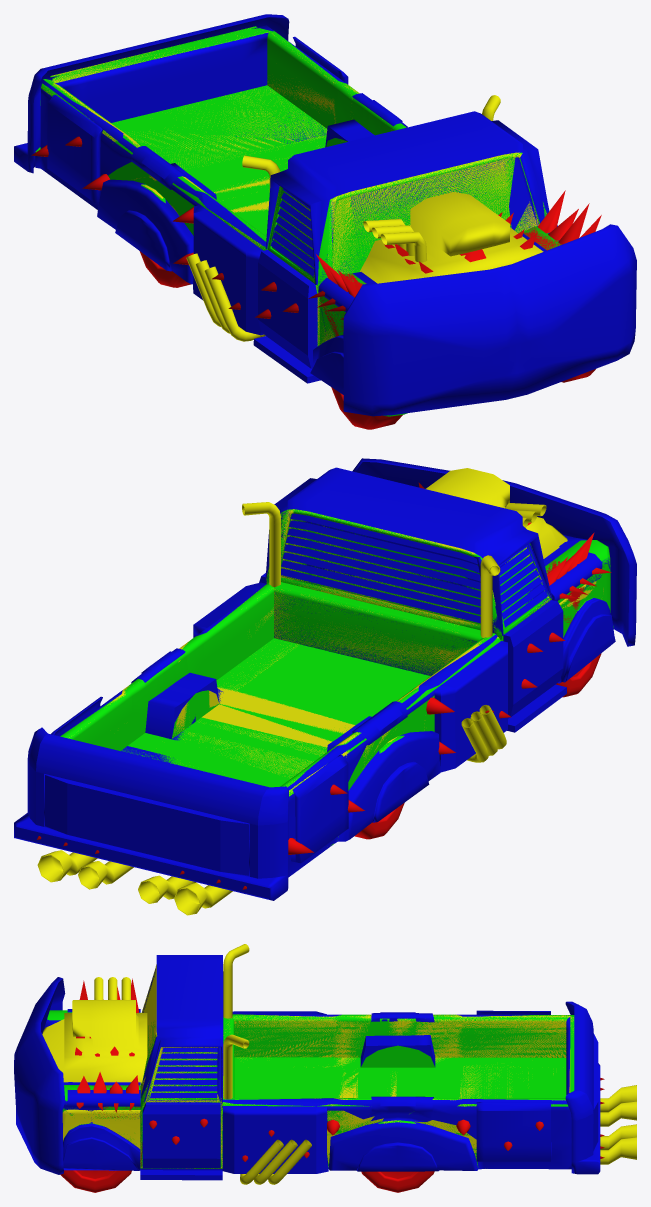
The model's file is Truck_Anims_3.fbx.
3 renders of one model, top to bottom at view 1: azimuth 30°, elevation 25°; view 2: azimuth 150°, elevation 25°; view 3: azimuth 270°, elevation 25°, orthographic. The views are drawn at different scales.
Visible parts, largest first — view 1: Truck_Front_Armored, Truck_Back_Armored, Truck_Back_Basic, Truck_Cab_Armored_top, Truck_Front_Speed, Truck_Cab_Top_3, Truck_Cab_1_top, Truck_Cab_Armored_Bottom, Truck_Front_attack, Truck_Back_1, Truck_Front_basic, Truck_wheel_frontleft (+1 smaller); view 2: Truck_Back_Armored, Truck_Back_Basic, Truck_Cab_Armored_top, Truck_Front_Speed, Truck_Front_Armored, Truck_Back_1, Truck_Cab_Top_3, Truck_Cab_Armored_Bottom, Truck_Front_attack, Truck_Cab_1_top, Truck_Front_basic, Truck_wheel_backleft (+1 smaller); view 3: Truck_Back_Armored, Truck_Back_Basic, Truck_Front_Speed, Truck_Front_Armored, Truck_Back_1, Truck_Cab_Armored_top, Truck_Cab_Armored_Bottom, Truck_Front_attack, Truck_Cab_1_top, Truck_Cab_Top_3, Truck_wheel_frontright, Truck_wheel_backright (+2 smaller).
Part boxes in pixels (x1,y1,x2,y2): Truck_Front_Armored: (310, 224, 636, 416); Truck_Back_Armored: (14, 14, 407, 335); Truck_Back_Basic: (36, 26, 406, 250); Truck_Cab_Armored_top: (265, 111, 549, 284); Truck_Front_Speed: (186, 95, 543, 344); Truck_Cab_Top_3: (267, 152, 546, 284); Truck_Cab_1_top: (275, 152, 546, 281); Truck_Cab_Armored_Bottom: (253, 225, 557, 383); Truck_Front_attack: (31, 136, 601, 336); Truck_Back_1: (41, 27, 392, 249); Truck_Front_basic: (320, 226, 561, 416); Truck_wheel_frontleft: (331, 387, 402, 429); Truck_Back_Armored: (14, 582, 507, 900); Truck_Back_Basic: (60, 582, 500, 845); Truck_Cab_Armored_top: (265, 467, 552, 635); Truck_Front_Speed: (37, 468, 603, 915); Truck_Front_Armored: (352, 458, 636, 683); Truck_Back_1: (69, 588, 499, 795); Truck_Cab_Top_3: (266, 509, 551, 635); Truck_Cab_Armored_Bottom: (259, 573, 566, 732); Truck_Front_attack: (37, 482, 611, 889); Truck_Cab_1_top: (267, 509, 549, 629); Truck_Front_basic: (545, 540, 613, 636); Truck_wheel_backleft: (354, 802, 404, 839); Truck_Back_Armored: (222, 1001, 600, 1174); Truck_Back_Basic: (223, 1014, 574, 1167); Truck_Front_Speed: (42, 944, 636, 1184); Truck_Front_Armored: (14, 977, 140, 1174); Truck_Back_1: (223, 1014, 573, 1166); Truck_Cab_Armored_top: (141, 955, 223, 1102); Truck_Cab_Armored_Bottom: (140, 1102, 222, 1180); Truck_Front_attack: (67, 978, 604, 1161); Truck_Cab_1_top: (141, 964, 221, 1102); Truck_Cab_Top_3: (140, 974, 220, 1102); Truck_wheel_frontright: (60, 1170, 131, 1192); Truck_wheel_backright: (361, 1171, 434, 1192).
Bounding box in the file's own units: 3.5 × 2.36 × 8.25.
